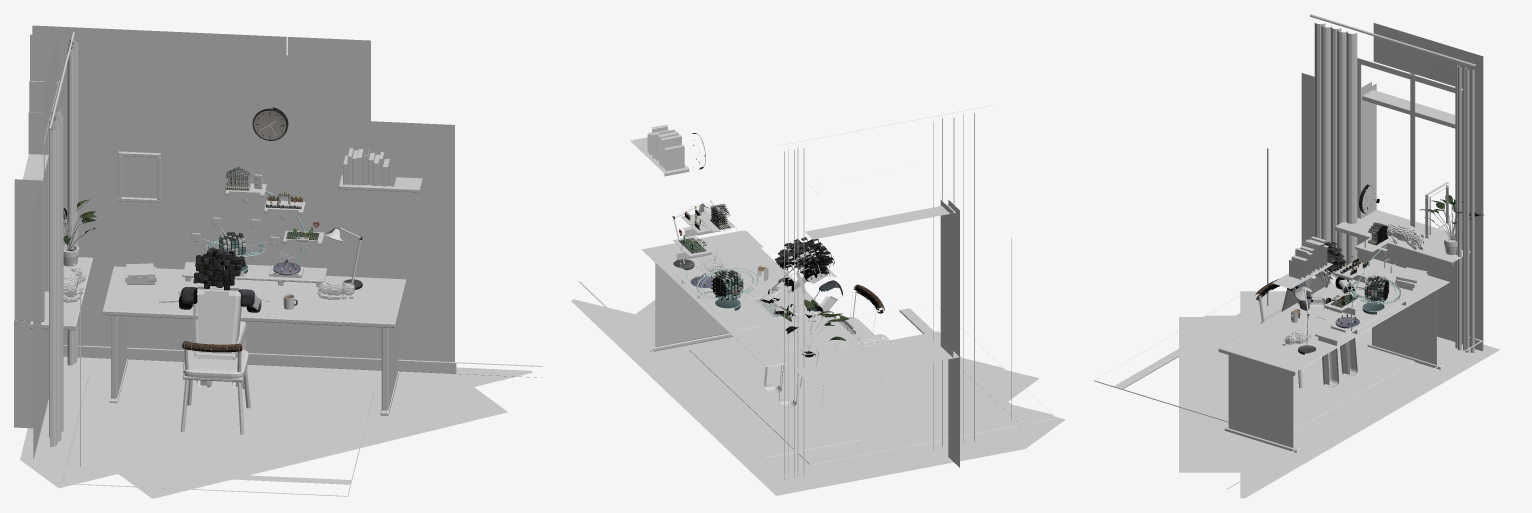
File: room.glb
The picture shows the model from 3 angles, left to right: view 1: azimuth 30°, elevation 25°; view 2: azimuth 150°, elevation 25°; view 3: azimuth 270°, elevation 25°; orthographic projection. The views are drawn at different scales.
Visible parts, largest first — view 1: room_atlas, room_vertex; view 2: room_atlas, room_vertex; view 3: room_atlas, room_vertex.
Boxes of the visible parts, box(x1,y1,x2,y2) form: room_atlas: box(14, 25, 542, 498); room_vertex: box(63, 107, 362, 352); room_atlas: box(571, 105, 1065, 495); room_vertex: box(672, 133, 884, 357); room_atlas: box(1094, 14, 1499, 498); room_vertex: box(1255, 184, 1483, 354).
Bounding box in the file's own units: 4.02 × 2.65 × 3.45.
